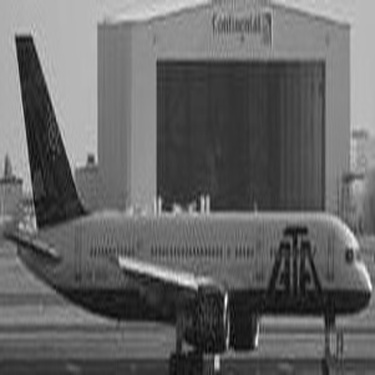airplane: (6, 31, 370, 373)
